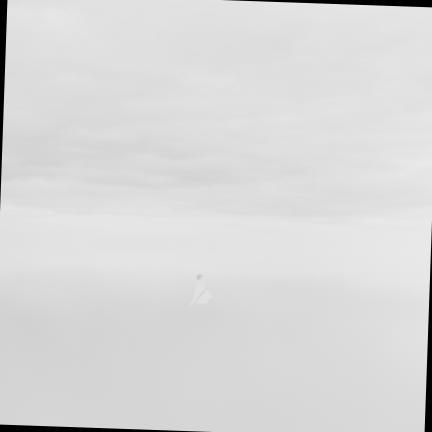Shahed: (190, 274, 214, 306)
